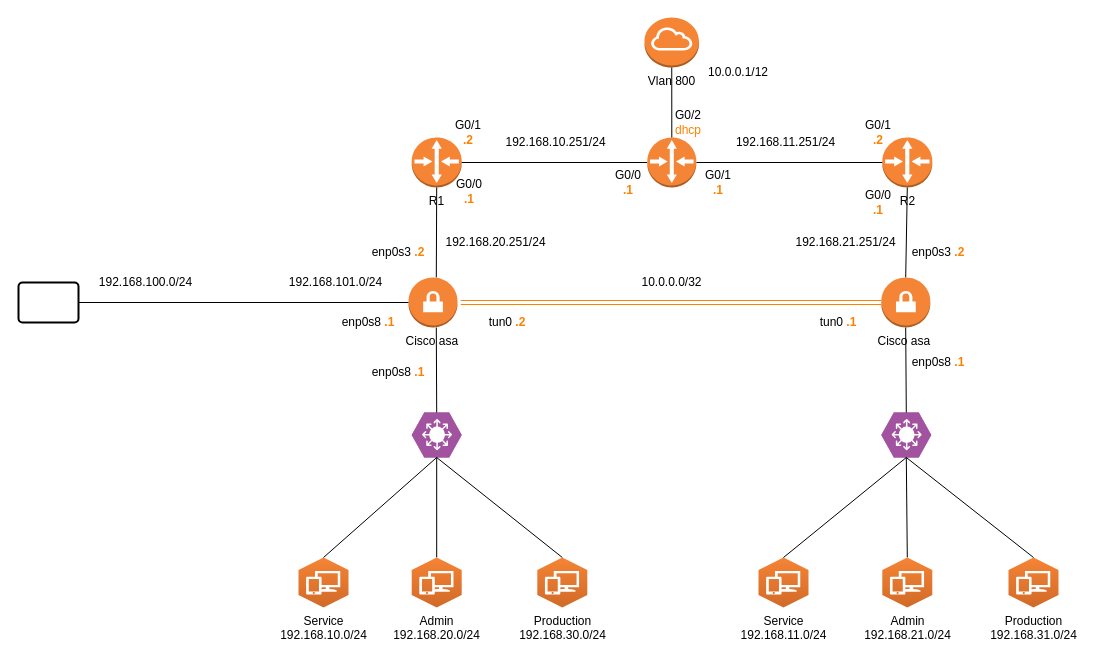
The diagram is 1094 pixels wide and 661 high, and some of its shapes have lost their labels. The box of each missing label's shape, as (x1, y1, x2, y2) in pixels:
DMZ: (17, 281, 79, 323)
R3: (646, 136, 696, 188)
Switch 1: (411, 412, 462, 458)
Switch 2: (880, 412, 931, 458)
